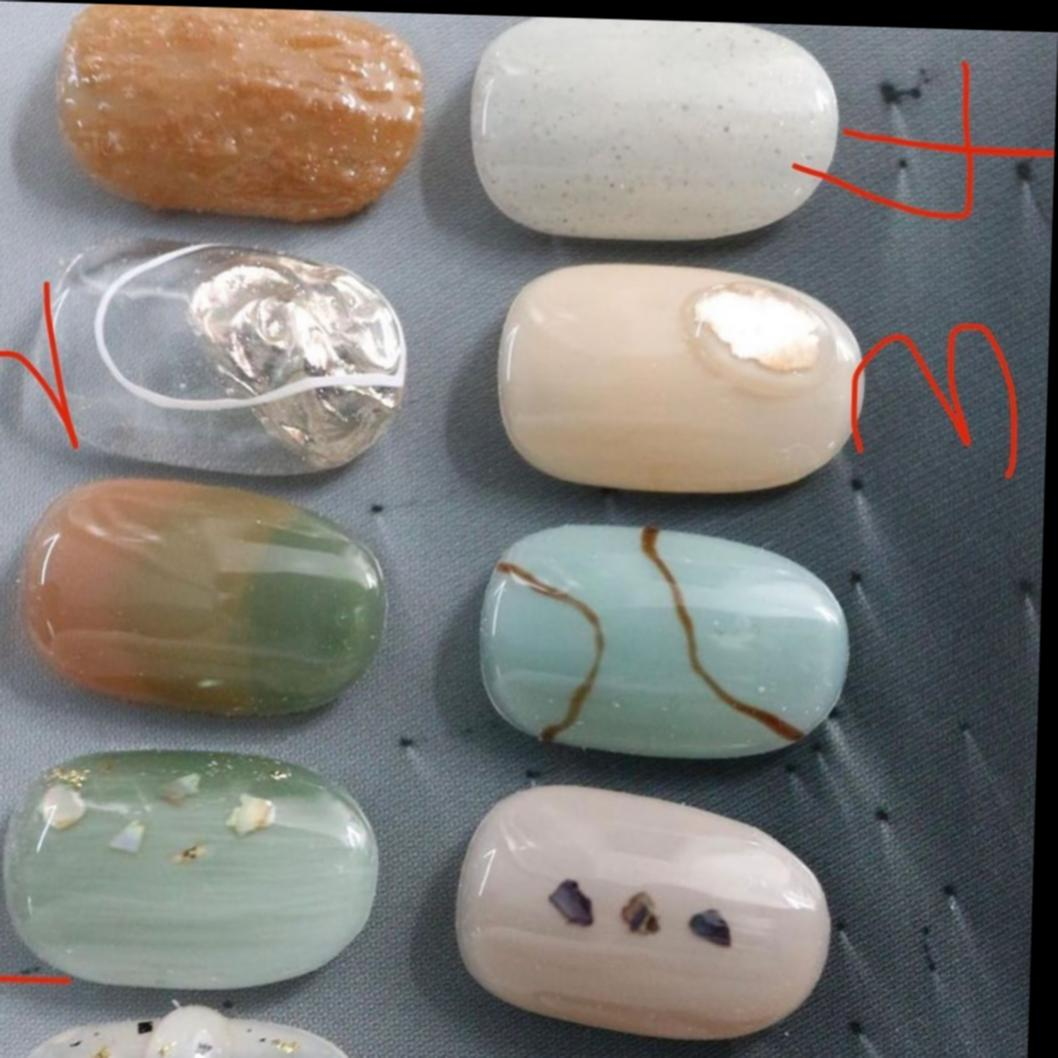nail: (449, 780, 835, 1045), (0, 744, 382, 997), (13, 473, 390, 723), (473, 519, 853, 765), (491, 258, 868, 500), (464, 14, 843, 248), (50, 2, 427, 227)
